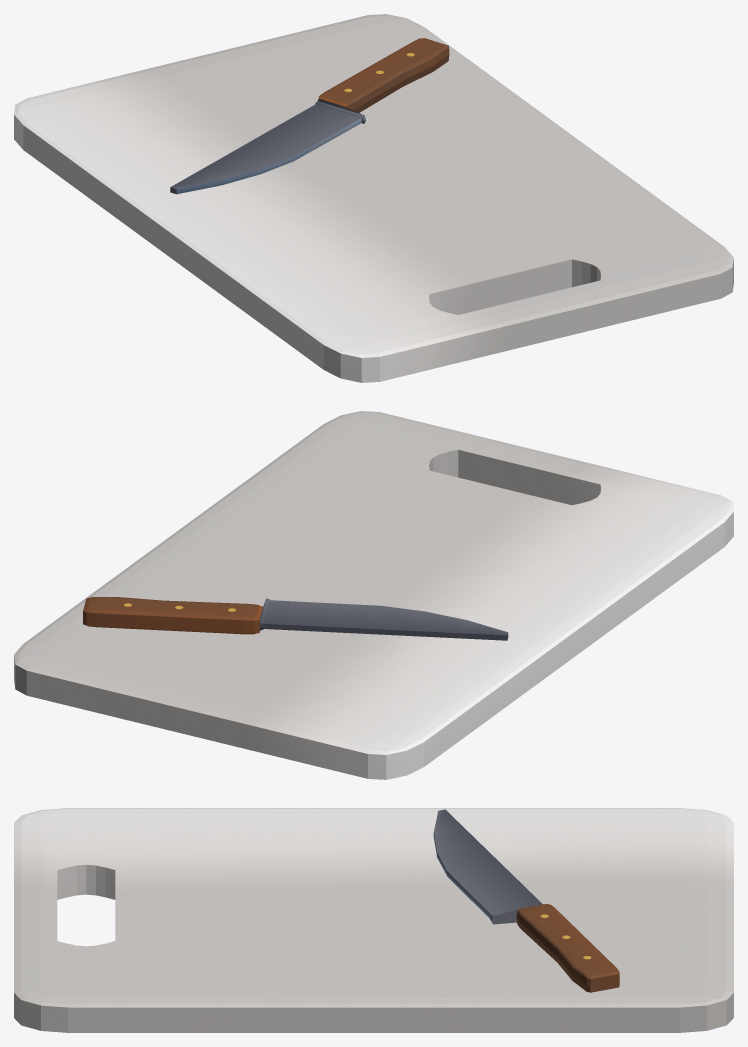
File: Choppingboard.glb
The picture shows the model from 3 angles, top to bottom: view 1: azimuth 30°, elevation 25°; view 2: azimuth 150°, elevation 25°; view 3: azimuth 270°, elevation 25°; orthographic projection.
Visible parts, largest first — view 1: CuttingBoard; view 2: CuttingBoard; view 3: CuttingBoard.
Part boxes in pixels (bbox=[...]): CuttingBoard: bbox=[14, 14, 733, 382]; CuttingBoard: bbox=[14, 411, 733, 779]; CuttingBoard: bbox=[14, 808, 733, 1032].
Bounding box in the file's own units: 0.4948 × 0.0557 × 0.7548.
Materials: 1 (1 with a texture image).
